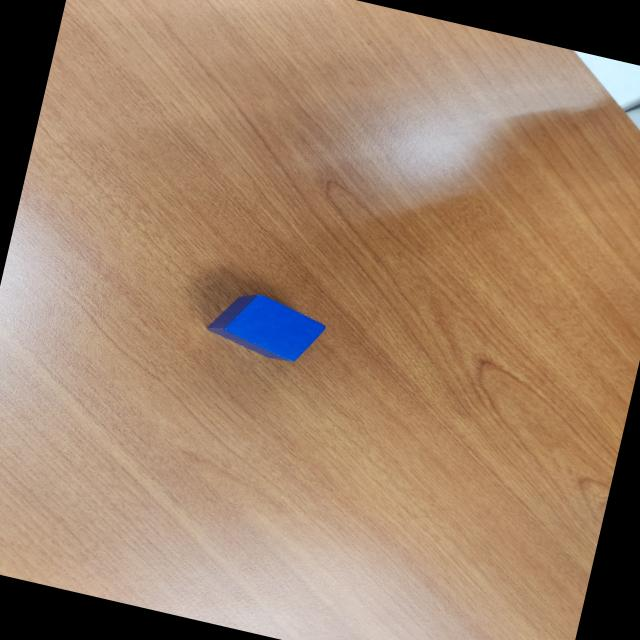blue: (202, 284, 330, 369)
